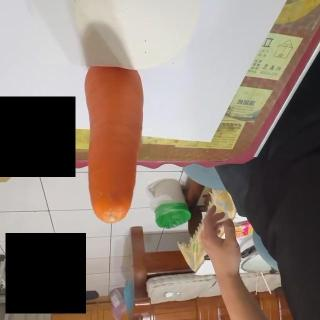carrot: (82, 62, 145, 224)
